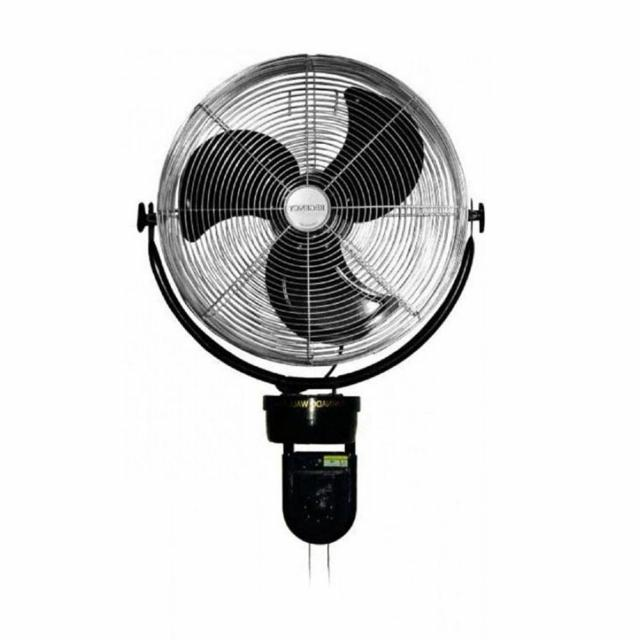fan: (133, 42, 486, 584)
